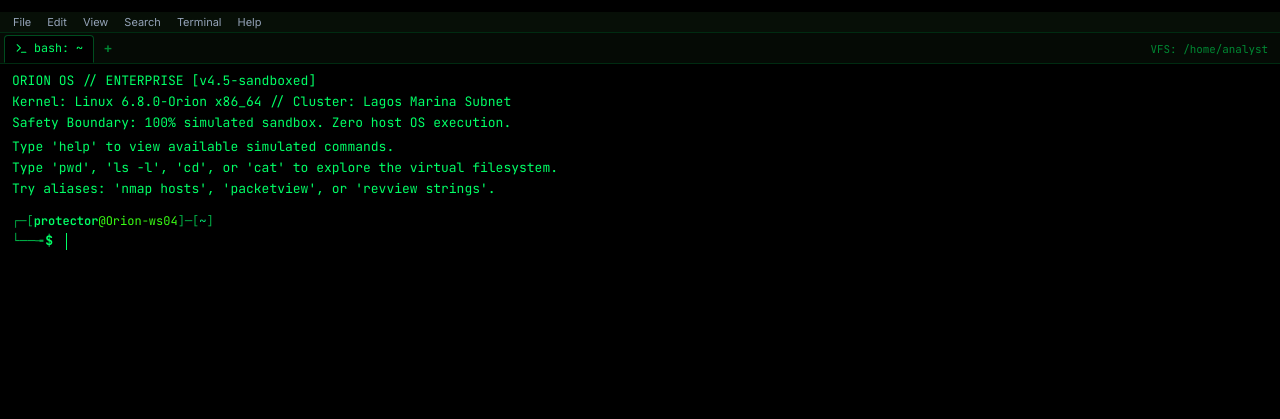
Test case: TerminalApp Component › submits a command on Enter and displays formatted output
Type "whoami" into the field with test id "terminal-command-input". click: {"x": 667, "y": 241}
box: left=66, top=231, right=1268, bottom=252
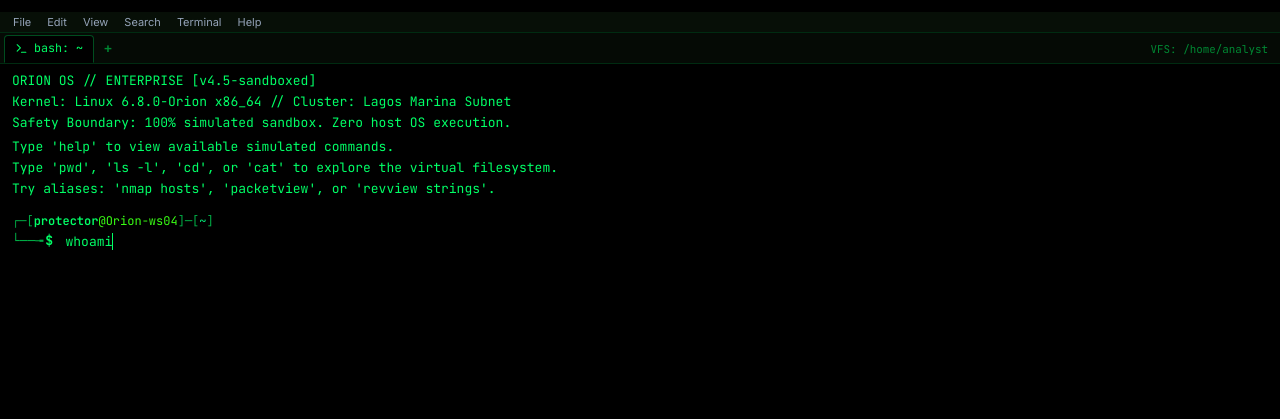
Press Enter in the field with test id "terminal-command-input", box left=66, top=231, right=1268, bottom=252
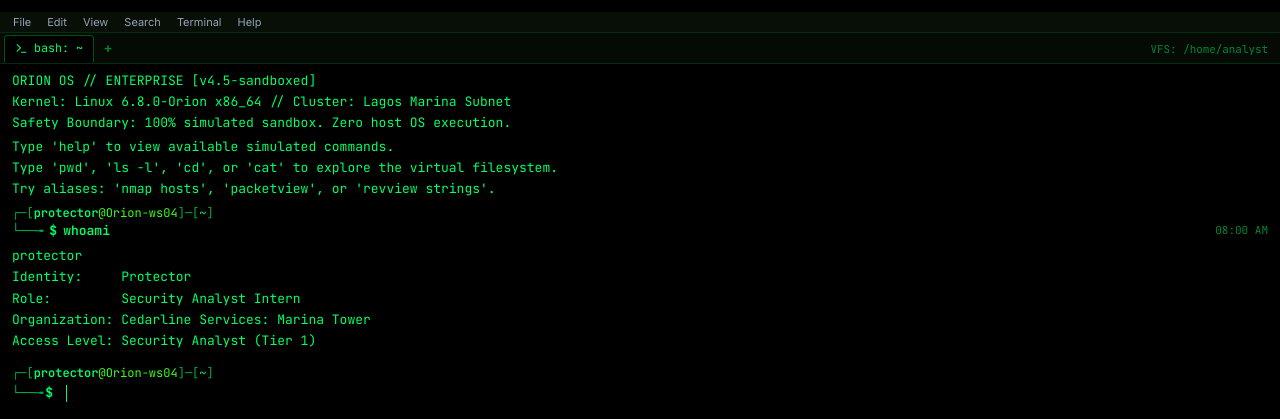
Expected: the 1st text "protector" is shown, left=34, top=204, right=98, bottom=220
Expected: the text "Role: Security Analyst Intern" is shown, left=12, top=290, right=301, bottom=307
